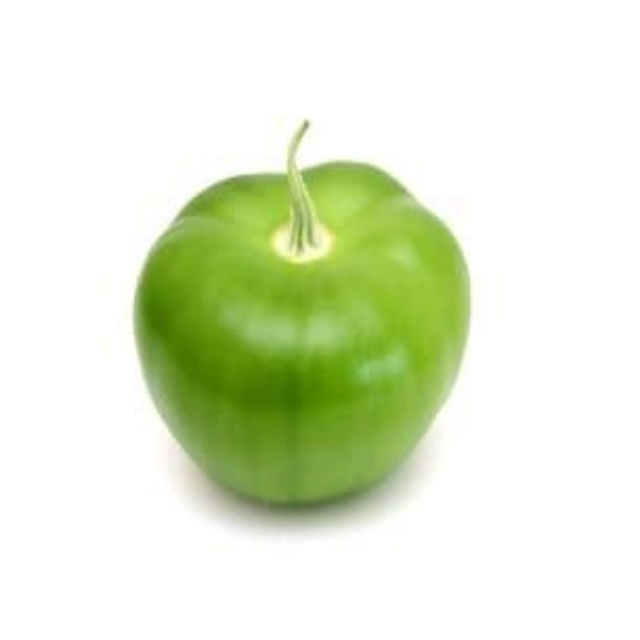tomato: (118, 150, 480, 525)
